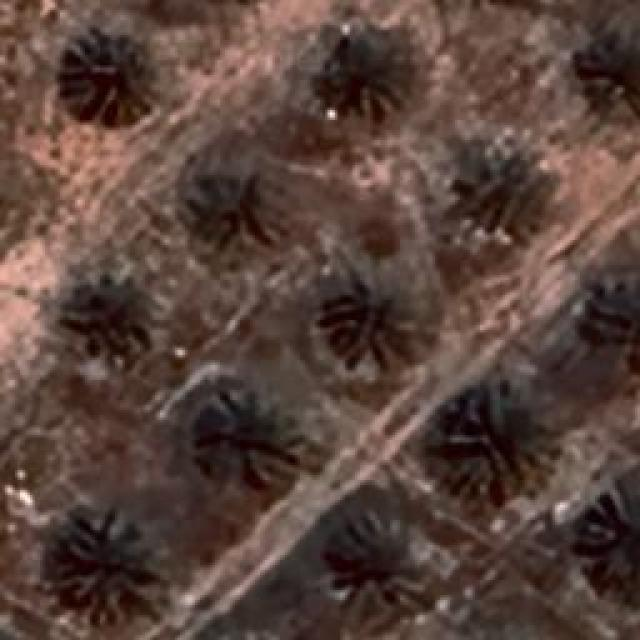PalmTree: (54, 514, 168, 628), (322, 260, 428, 362), (190, 390, 295, 492), (442, 390, 548, 488), (292, 22, 400, 118), (60, 28, 170, 122), (460, 135, 552, 230), (68, 271, 154, 369), (335, 518, 423, 608), (200, 167, 282, 255), (587, 277, 640, 392), (575, 27, 640, 115), (584, 482, 638, 580)
